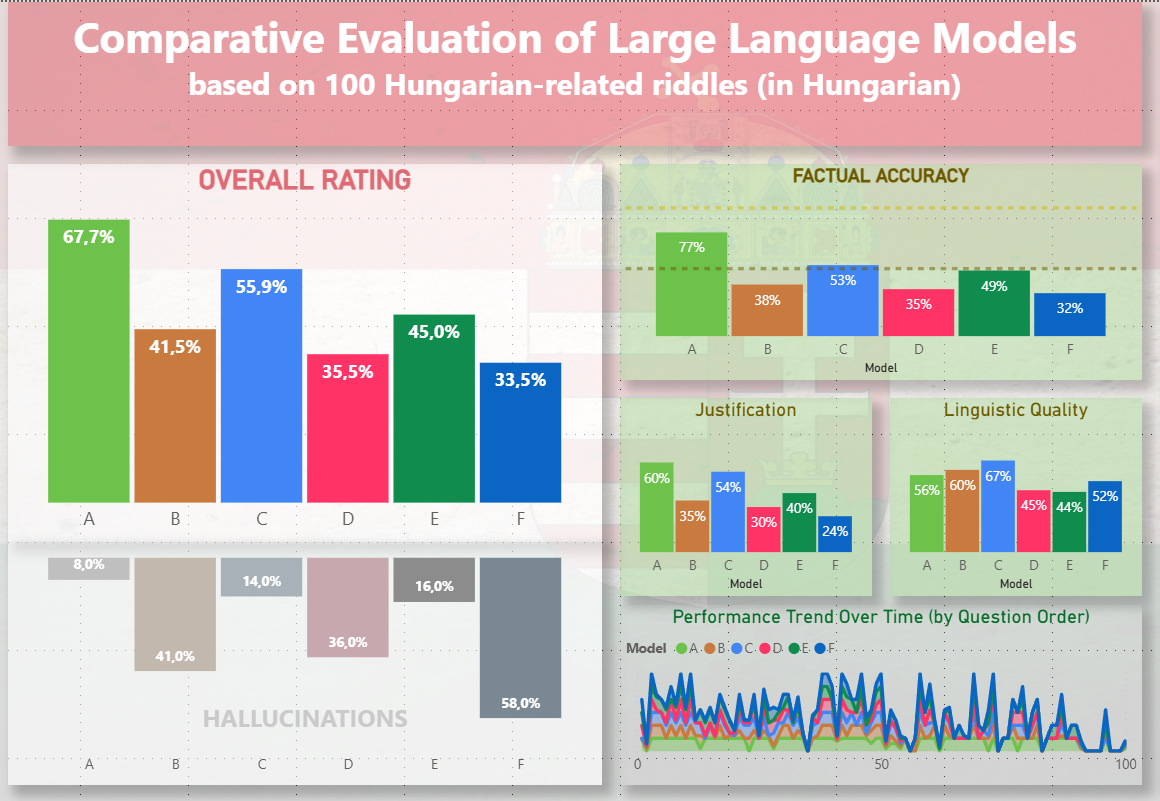

This screenshot's page, from the dashboard's own definition file:
{"tool":"powerbi","page":{"name":"Page 1","canvas":[1280,720],"ordinal":0},"visuals":[{"type":"columnChart","title":"Justification","fields":{"Category":["Answers.Model"],"Y":["Avg(Answers.Just%)"]},"box":[576,352,224,176],"z":0},{"type":"columnChart","title":"FACTUAL ACCURACY","fields":{"Category":["Answers.Model"],"Y":["Avg(Answers.Fact%)"]},"box":[576,144,464,192],"z":1000},{"type":"columnChart","title":"Linguistic Quality","fields":{"Category":["Answers.Model"],"Y":["Avg(Answers.Lang%)"]},"box":[816,352,224,176],"z":2000},{"type":"stackedAreaChart","title":"Performance Trend Over Time (by Question Order)","fields":{"Category":["Answers.ID"],"Y":["Avg(Answers.Factual Accuracy)"],"Series":["Answers.Model"]},"box":[576,536,464,160],"z":3000},{"type":"advancedSlicerVisual","title":"Topics Selected","fields":{"Values":["Questions.Topic"]},"box":[1056,0,208,696],"z":4000},{"type":"columnChart","title":"OVERALL RATING","fields":{"Category":["Answers.Model"],"Y":["Avg(Answers.Overall Score)"]},"box":[32,144,528,336],"z":4500},{"type":"textbox","box":[32,0,1008,128],"z":5000},{"type":"textbox","box":[144,616,304,40],"z":8000},{"type":"columnChart","title":"Hallucination","fields":{"Category":["Answers.Model"],"Y":["Sum(Answers.Hall%)"]},"box":[32,480,528,216],"z":8500}]}

Visuals, with their boxes on the page's 1280x720 design canvas (x1, y1, x2, y2). These are canvas units, not pixel positions in the 1160x801 screenshot, which may show the page scaled, cropped or inside an application window:
"Justification" columnChart: box=[576, 352, 800, 528]
"FACTUAL ACCURACY" columnChart: box=[576, 144, 1040, 336]
"Linguistic Quality" columnChart: box=[816, 352, 1040, 528]
"Performance Trend Over Time (by Question Order)" stackedAreaChart: box=[576, 536, 1040, 696]
"Topics Selected" advancedSlicerVisual: box=[1056, 0, 1264, 696]
"OVERALL RATING" columnChart: box=[32, 144, 560, 480]
textbox: box=[32, 0, 1040, 128]
textbox: box=[144, 616, 448, 656]
"Hallucination" columnChart: box=[32, 480, 560, 696]
